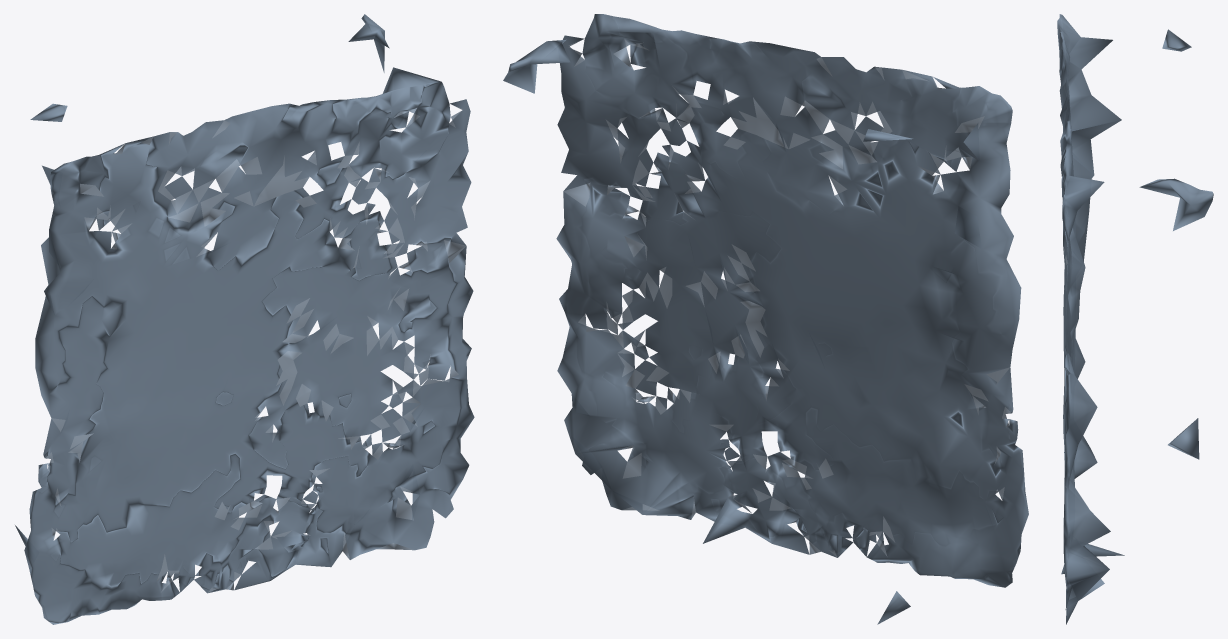
The model's file is table_0376_recon.obj.
3 views of the same model, side by side, from view 1: azimuth 30°, elevation 25°; view 2: azimuth 150°, elevation 25°; view 3: azimuth 270°, elevation 25° (orthographic). The views are drawn at different scales.
Bounding box in the file's own units: 1.45 × 1.49 × 0.4707.
